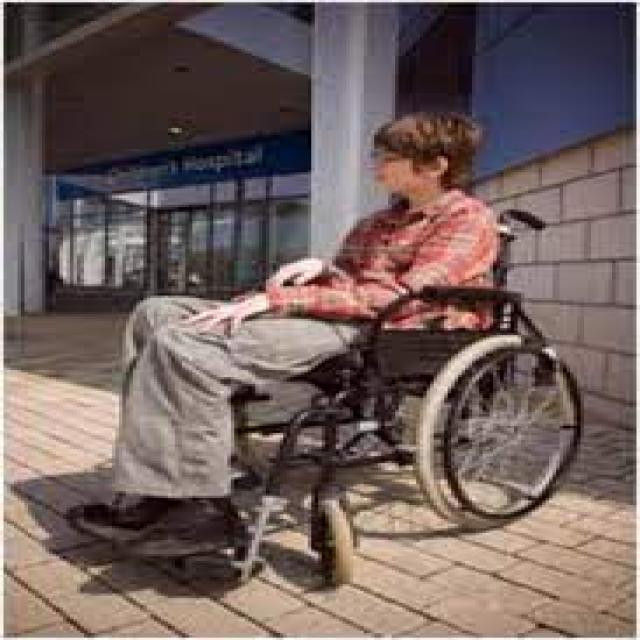wheelchairs: (71, 186, 577, 594)
